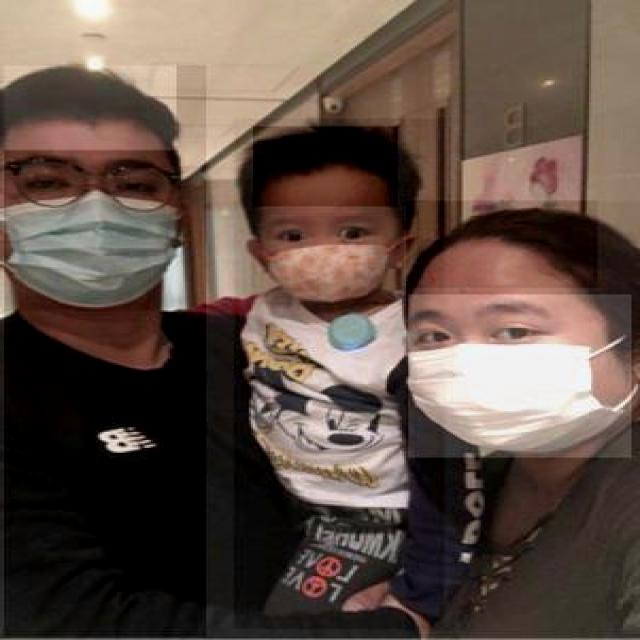face_mask: (408, 294, 632, 458), (2, 149, 185, 310), (260, 207, 398, 306)
glasses: (0, 152, 183, 211)
head_nohelmet: (406, 200, 598, 288), (2, 66, 177, 152), (253, 126, 398, 206)
person: (2, 66, 206, 638), (232, 119, 444, 630), (404, 202, 640, 638)
